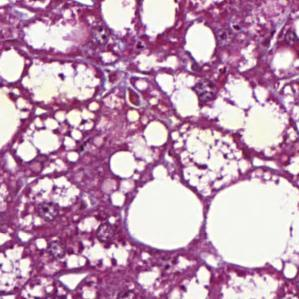steatosis: (126, 183, 205, 247), (107, 147, 138, 180)
